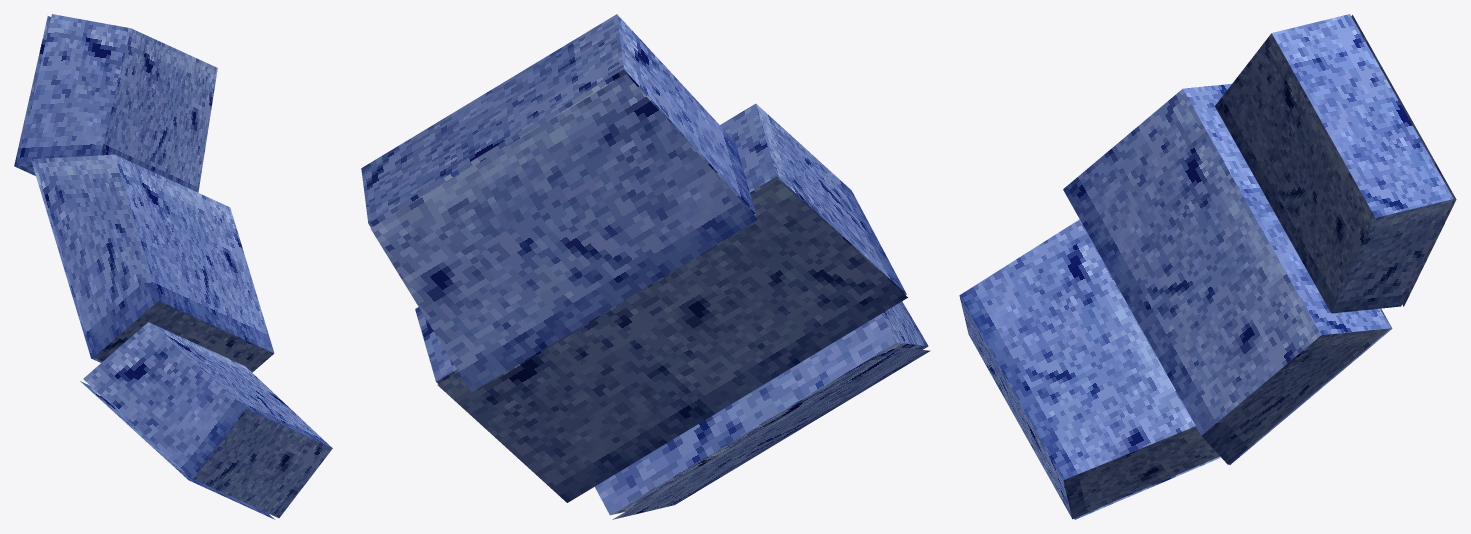
Rendered from shield_stone.obj.
3 views of the same model, side by side, from view 1: azimuth 30°, elevation 25°; view 2: azimuth 150°, elevation 25°; view 3: azimuth 270°, elevation 25° (orthographic). The views are drawn at different scales.
Parts seen in each view (by area): view 1: Object_6, Object_4, Object_3, Object_2, Object_1, Object_5; view 2: Object_1, Object_5, Object_3, Object_4, Object_6, Object_2; view 3: Object_6, Object_3, Object_4, Object_1.
Boxes of the visible parts, bbox=[...] form: Object_6: bbox=[33, 154, 274, 372]; Object_4: bbox=[83, 322, 332, 517]; Object_3: bbox=[18, 14, 217, 192]; Object_2: bbox=[80, 381, 274, 519]; Object_1: bbox=[14, 16, 50, 175]; Object_5: bbox=[31, 160, 102, 362]; Object_1: bbox=[370, 74, 757, 392]; Object_5: bbox=[437, 179, 907, 502]; Object_3: bbox=[361, 14, 755, 227]; Object_4: bbox=[595, 301, 928, 515]; Object_6: bbox=[415, 103, 906, 383]; Object_2: bbox=[612, 347, 930, 519]; Object_6: bbox=[1063, 83, 1390, 464]; Object_3: bbox=[1215, 14, 1453, 313]; Object_4: bbox=[959, 219, 1219, 519]; Object_1: bbox=[1351, 15, 1456, 306].
Size of the model in its own units: 10.95 by 17.31 by 16.93.
Materials: 1 (1 with a texture image).
